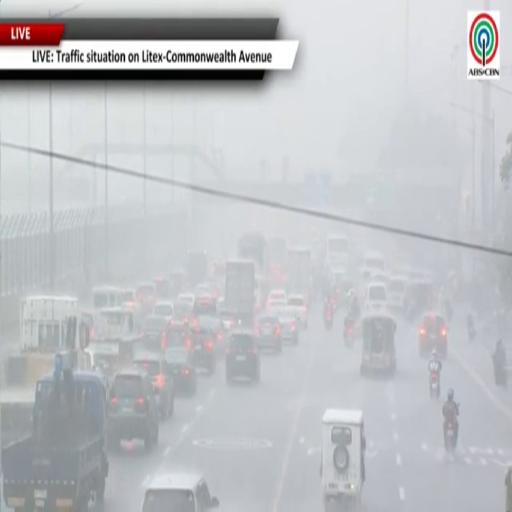car: (108, 368, 159, 450), (142, 473, 219, 511), (133, 354, 175, 419), (225, 330, 260, 383), (165, 346, 196, 395), (419, 312, 447, 358), (191, 328, 216, 375), (255, 314, 282, 353), (143, 315, 170, 351), (198, 315, 225, 349), (277, 308, 299, 344), (387, 275, 407, 312), (287, 295, 308, 328), (135, 282, 157, 313), (365, 282, 387, 313), (192, 294, 217, 318), (174, 294, 194, 323), (153, 300, 173, 319), (154, 278, 171, 299), (266, 299, 287, 312), (268, 290, 287, 303)
motorcycle: (492, 356, 507, 387), (445, 418, 457, 456), (445, 421, 456, 455), (430, 372, 440, 398), (344, 325, 354, 347), (324, 308, 332, 331), (445, 300, 453, 322), (468, 325, 476, 342)
truck: (2, 352, 108, 511), (0, 296, 89, 444), (86, 307, 143, 371), (224, 260, 255, 327), (237, 232, 269, 278), (287, 247, 311, 299), (186, 251, 209, 286)
